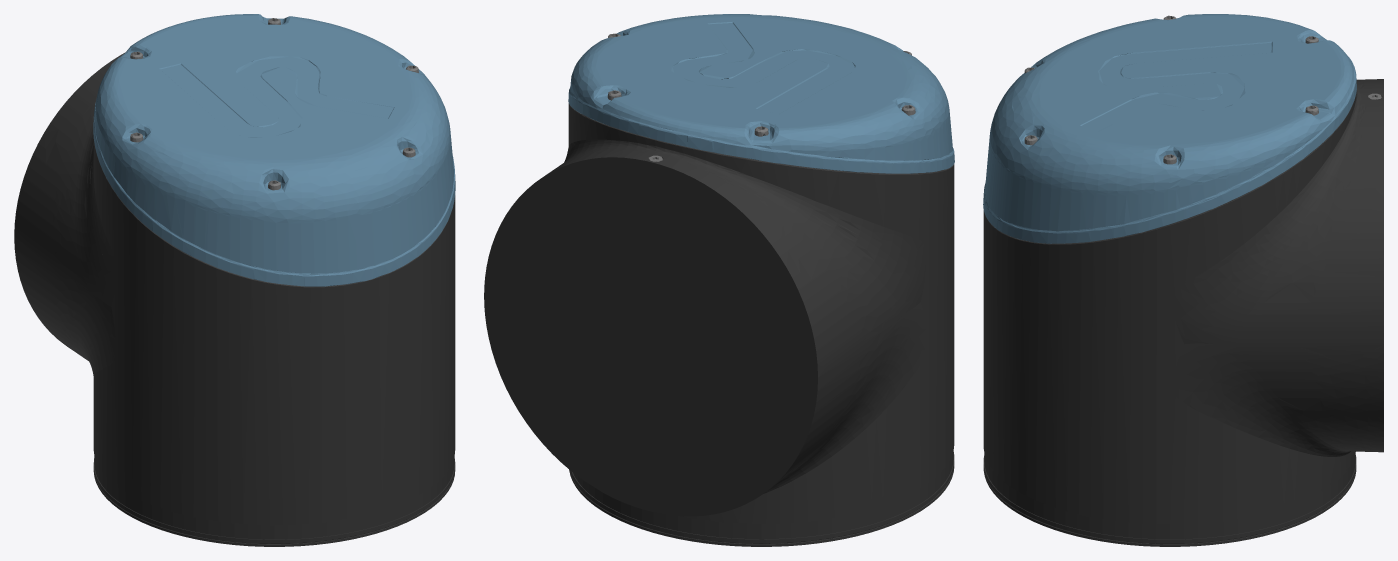
File: shoulder.dae
3 renders of one model, left to right at view 1: azimuth 30°, elevation 25°; view 2: azimuth 150°, elevation 25°; view 3: azimuth 270°, elevation 25°, orthographic. The views are drawn at different scales.
Parts seen in each view (by area): view 1: node-shape0-name, node-shape1-name, node-shape2-name; view 2: node-shape0-name, node-shape1-name; view 3: node-shape0-name, node-shape1-name, node-shape2-name.
Boxes of the visible parts, box(x1,y1,x2,y2) form: node-shape0-name: box(14, 53, 455, 546); node-shape1-name: box(93, 14, 455, 286); node-shape2-name: box(130, 18, 418, 190); node-shape0-name: box(484, 103, 954, 546); node-shape1-name: box(568, 14, 954, 173); node-shape0-name: box(983, 79, 1383, 546); node-shape1-name: box(983, 14, 1356, 243); node-shape2-name: box(1024, 15, 1381, 164).
Bounding box in the file's own units: 0.1503 × 0.1612 × 0.1772.
